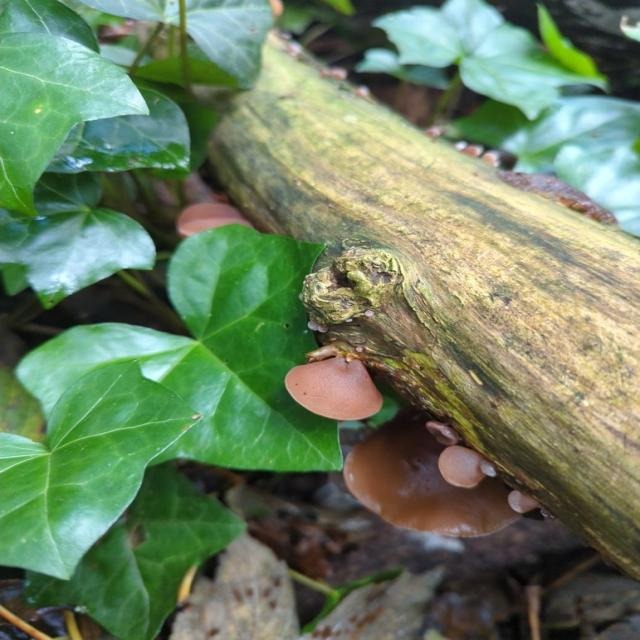Fase Muda: (275, 348, 390, 429), (434, 441, 497, 490), (496, 486, 546, 518), (426, 418, 456, 447)
Matang: (344, 415, 529, 549)
